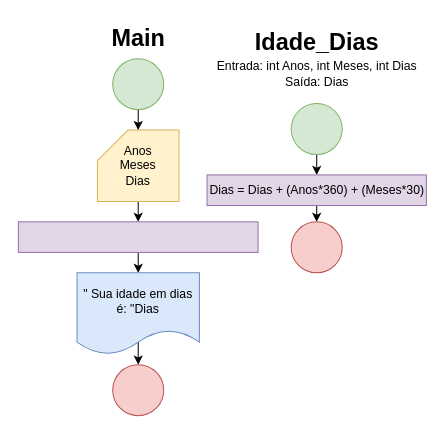
This 446x434 diagram has some shape labels left out. Each missing label, with the centre of its shape:
"Dias = Idade_Dias(Anos, Meses, Dias)" belongs at point 137,236.
"return Dias" belongs at point 316,247.
